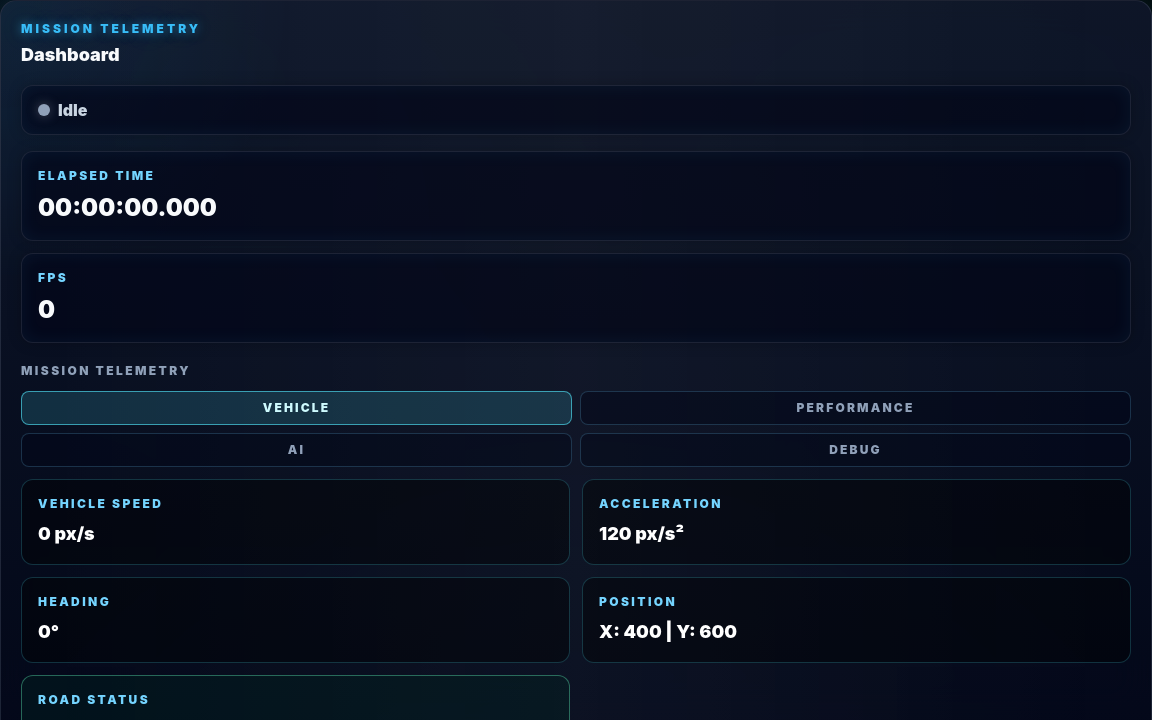
Test: DashboardPanel › renders debug telemetry placeholders in the debug tab
The width and height of the screenshot is (1152, 720).
Click the tab "Debug": (856, 450) [580, 433, 1131, 467]
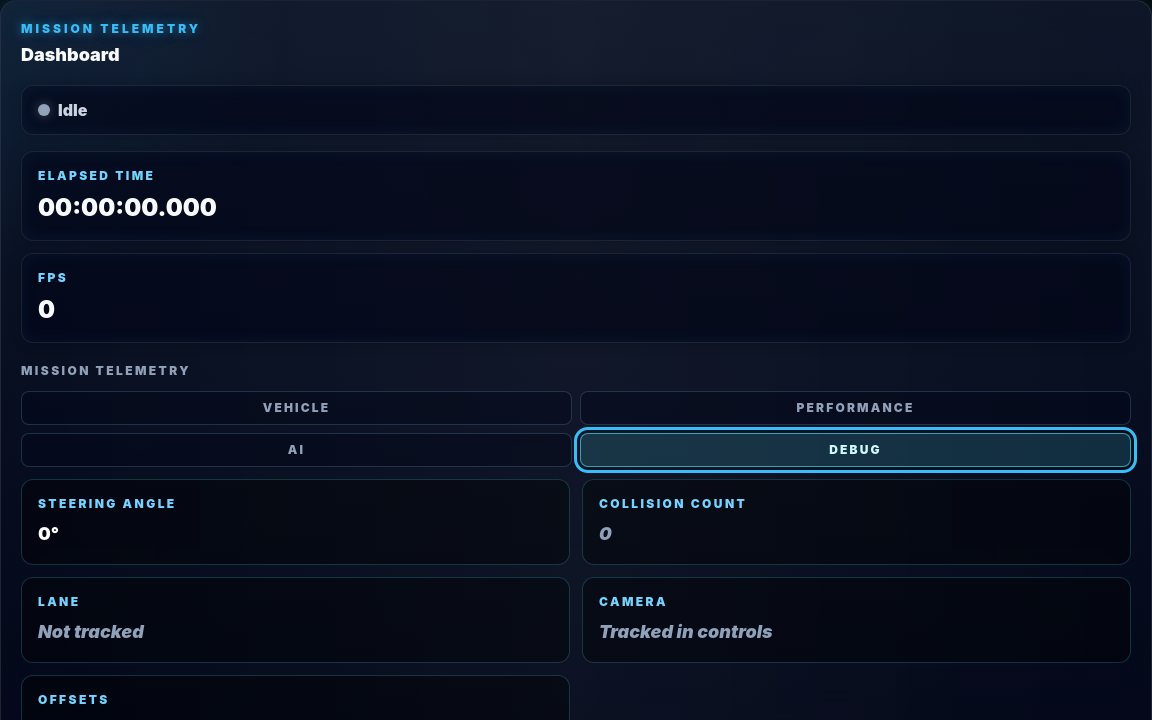
expect the element with test id "vehicle-steering-telemetry" shows "0°": met, box [38, 523, 59, 544]
expect the text "Collision Count" is shown: met, box [599, 496, 747, 511]
expect the text "Lane" is shown: met, box [38, 594, 80, 609]
